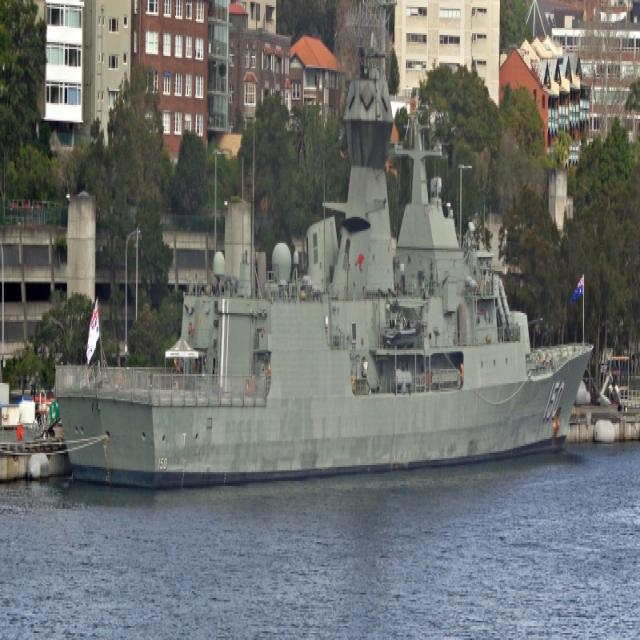Fragata: (54, 31, 603, 494)
